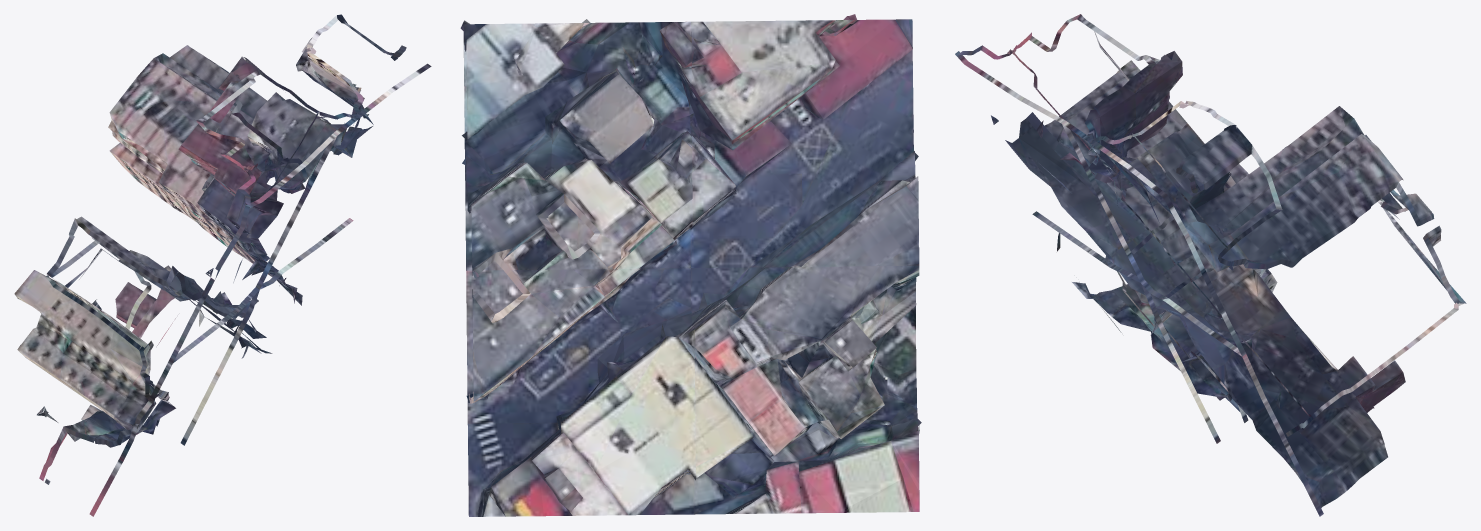
3 renders of one model, left to right at view 1: azimuth 30°, elevation 25°; view 2: azimuth 150°, elevation 25°; view 3: azimuth 270°, elevation 25°, orthographic. The views are drawn at different scales.
Bounding box in the file's own units: 82.18 × 79.25 × 89.17.
Materials: 2 (2 with a texture image).
